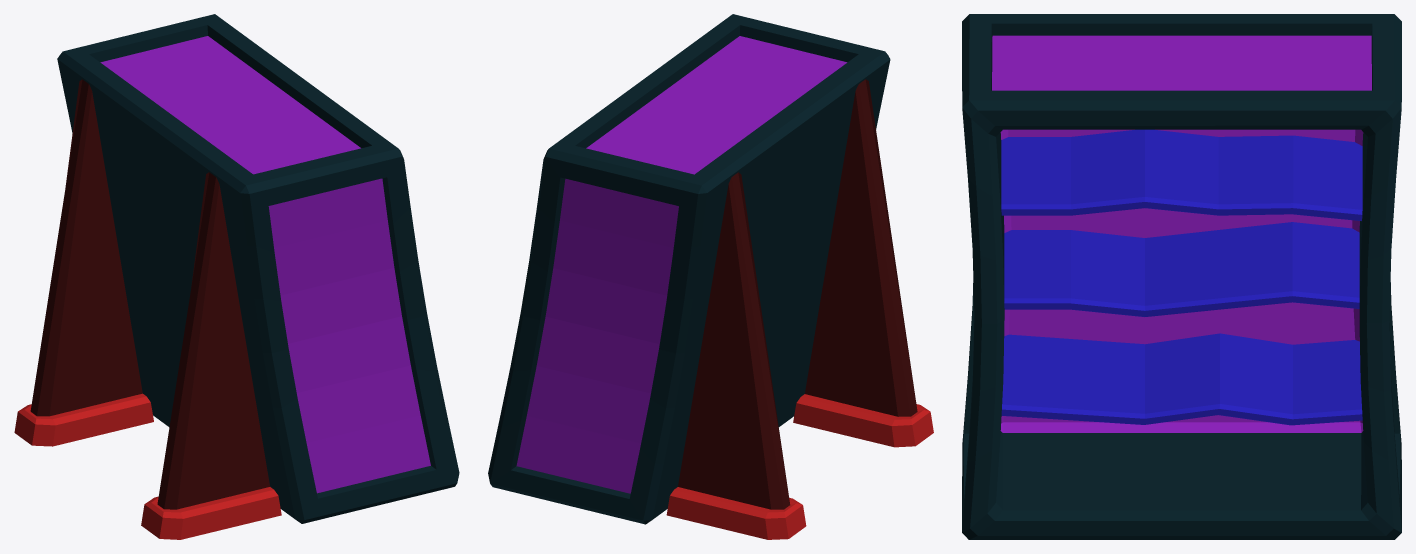
Rendered from MESH_DisplayStand.fbx.
3 renders of one model, left to right at view 1: azimuth 30°, elevation 25°; view 2: azimuth 150°, elevation 25°; view 3: azimuth 270°, elevation 25°, orthographic. The views are drawn at different scales.
Parts seen in each view (by area): view 1: MESH_DisplayStand; view 2: MESH_DisplayStand; view 3: MESH_DisplayStand.
Part boxes in pixels (<box>): MESH_DisplayStand: <box>14,14,459,539</box>; MESH_DisplayStand: <box>488,14,933,539</box>; MESH_DisplayStand: <box>962,14,1401,539</box>.
Bounding box in the file's own units: 0.8387 × 1 × 0.9773.
